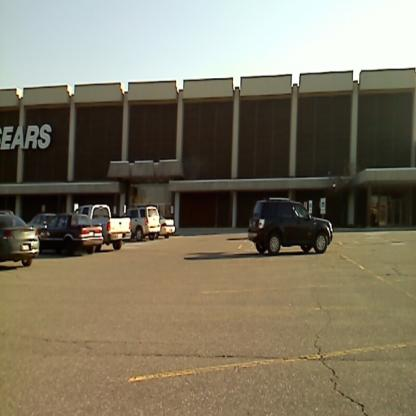Car: (250, 194, 335, 262), (38, 214, 105, 258), (1, 212, 42, 267), (125, 208, 162, 241), (28, 213, 62, 235), (160, 216, 175, 239)
